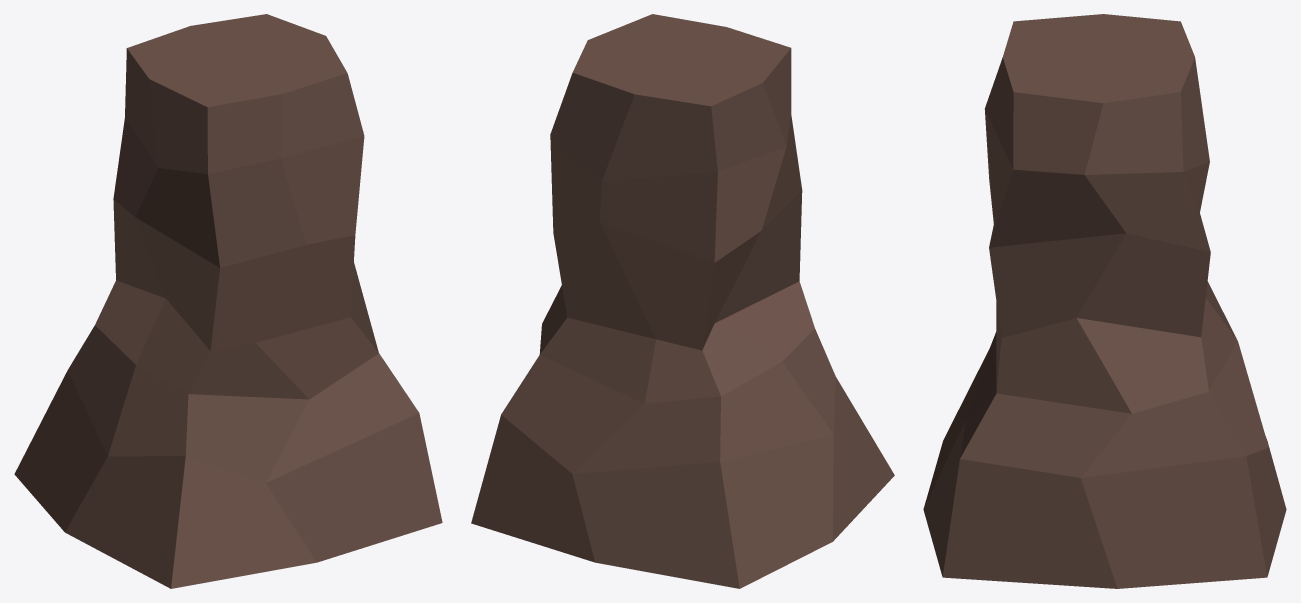
File: Cave_Pillar_Bottom_Low.fbx
3 renders of one model, left to right at view 1: azimuth 30°, elevation 25°; view 2: azimuth 150°, elevation 25°; view 3: azimuth 270°, elevation 25°, orthographic. The views are drawn at different scales.
Parts seen in each view (by area): view 1: Cave_Pillar_Bottom_Low; view 2: Cave_Pillar_Bottom_Low; view 3: Cave_Pillar_Bottom_Low.
Boxes of the visible parts, box(x1,y1,x2,y2) form: Cave_Pillar_Bottom_Low: box(14, 14, 442, 588); Cave_Pillar_Bottom_Low: box(471, 14, 894, 588); Cave_Pillar_Bottom_Low: box(923, 14, 1286, 588).
Bounding box in the file's own units: 2.25 × 2.17 × 3.
